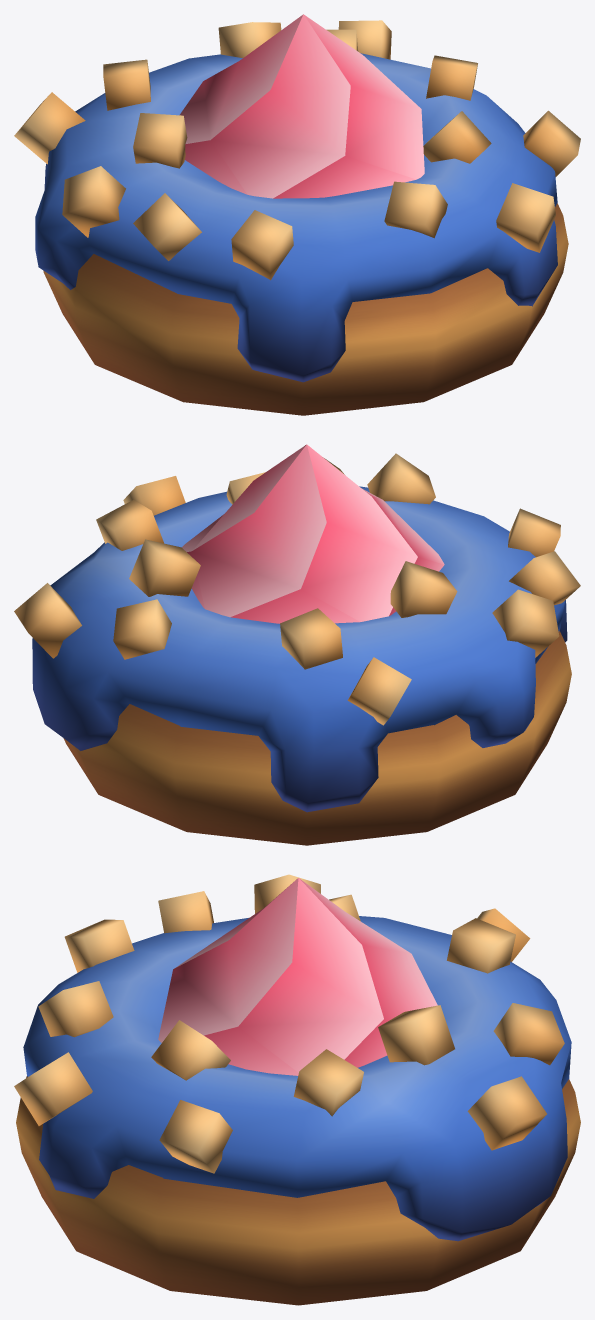
Rendered from m_Donut18.fbx.
3 views of the same model, one above another, from view 1: azimuth 30°, elevation 25°; view 2: azimuth 150°, elevation 25°; view 3: azimuth 270°, elevation 25° (orthographic). The views are drawn at different scales.
Parts seen in each view (by area): view 1: m_Donut18; view 2: m_Donut18; view 3: m_Donut18.
Part boxes in pixels (<box>): m_Donut18: <box>14,14,580,415</box>; m_Donut18: <box>14,444,580,845</box>; m_Donut18: <box>14,874,580,1305</box>.
Bounding box in the file's own units: 12.64 × 8.32 × 12.2.
